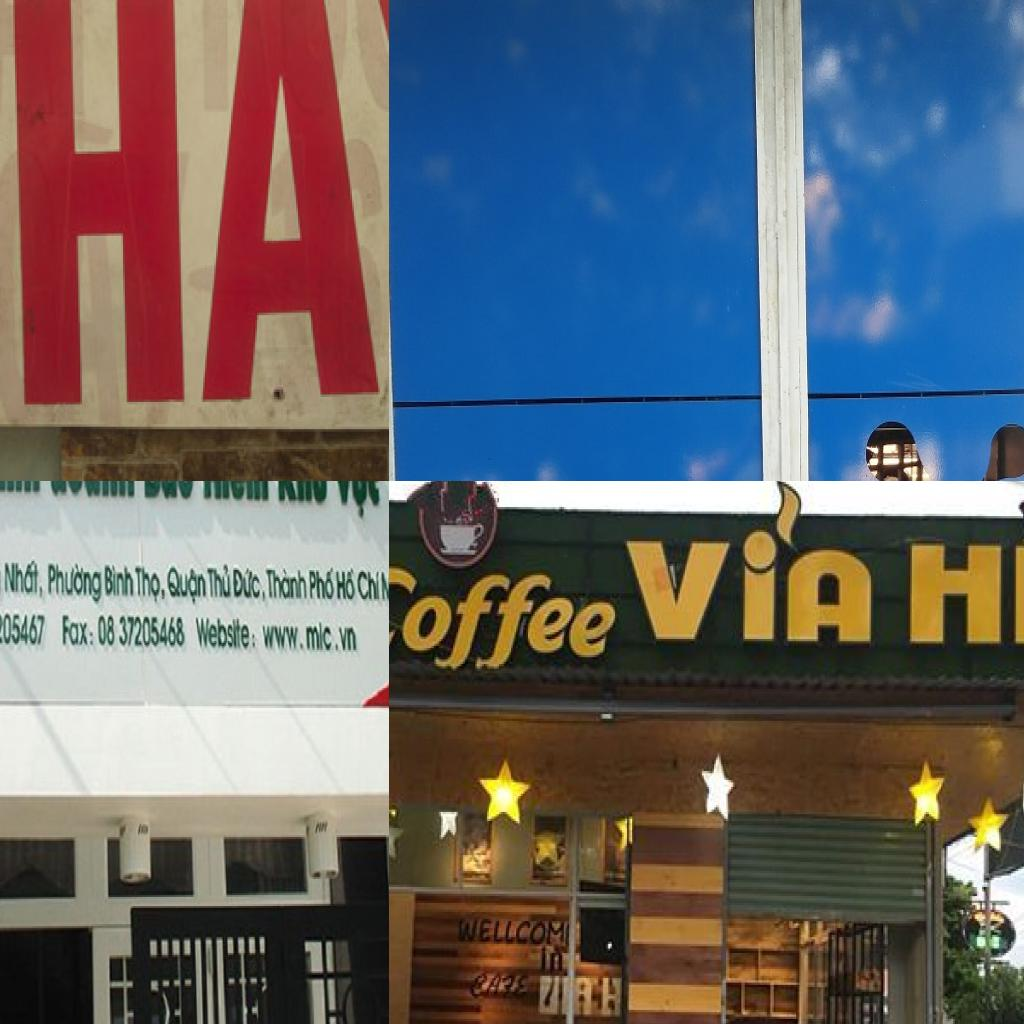text: (618, 481, 876, 650), (389, 564, 617, 673), (900, 500, 1024, 650), (261, 619, 363, 663), (96, 610, 188, 652), (458, 914, 569, 946), (194, 610, 259, 656), (47, 558, 104, 608), (572, 976, 626, 1021), (2, 550, 46, 605), (467, 967, 533, 1003), (0, 603, 48, 652), (265, 554, 310, 604), (333, 481, 384, 524), (166, 558, 210, 604), (49, 481, 138, 501), (135, 556, 168, 608), (201, 481, 272, 504), (62, 608, 98, 652), (234, 559, 268, 605), (104, 554, 136, 599), (142, 481, 197, 506), (275, 481, 329, 506), (206, 558, 233, 604), (308, 561, 336, 605), (356, 562, 382, 604), (336, 561, 356, 605), (540, 944, 566, 973)
